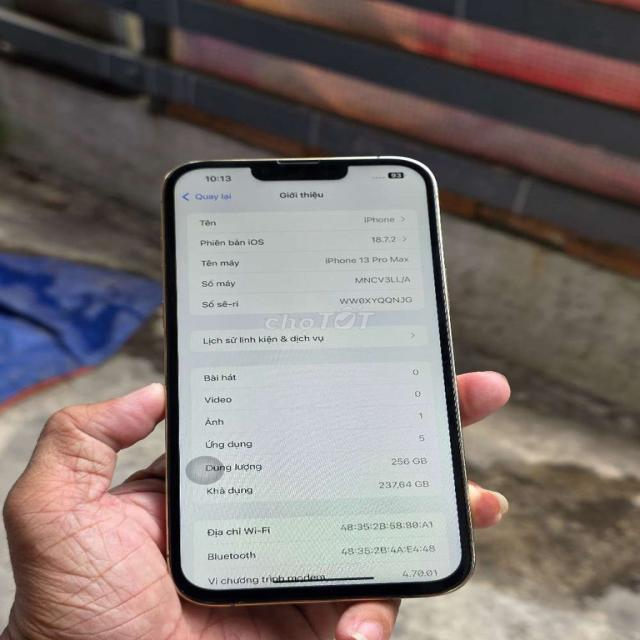gen_12_13: (157, 153, 481, 613)
